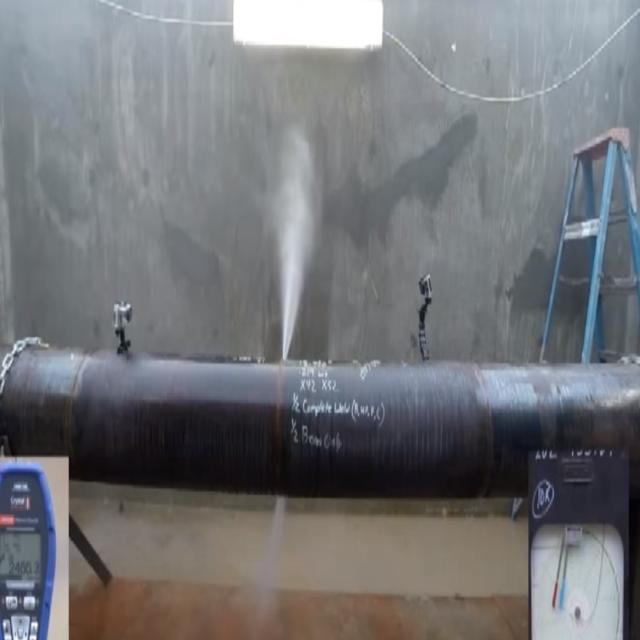leak: (280, 125, 312, 360)
